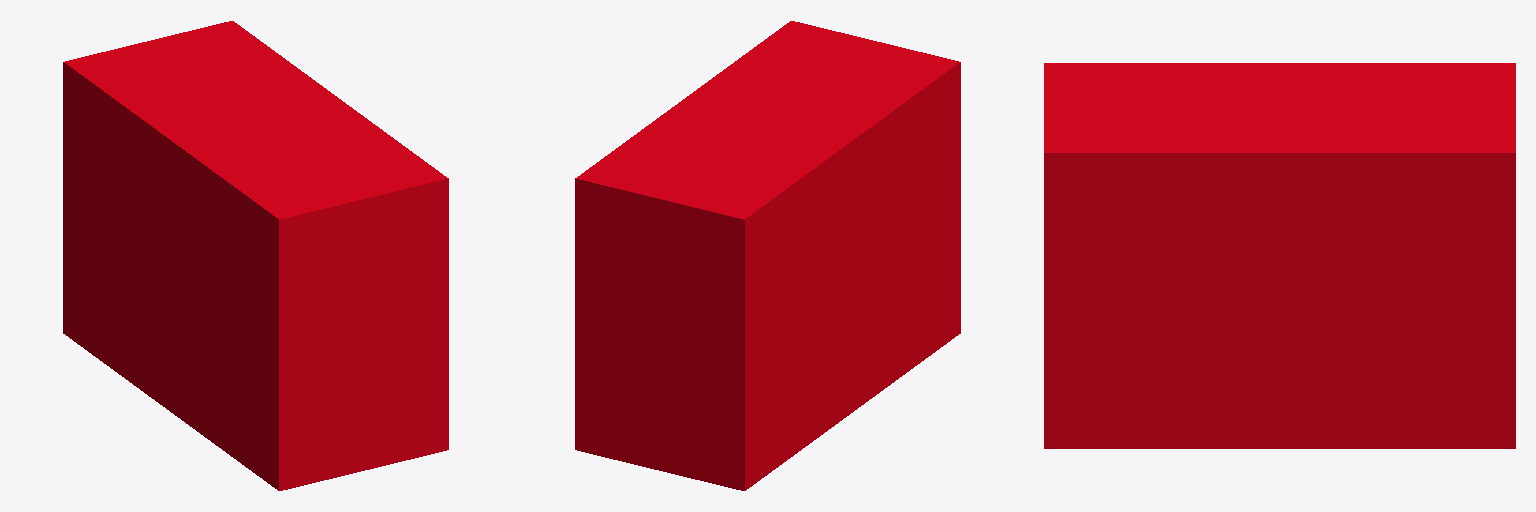
robot.urdf — random_box:
<?xml version='1.0' encoding='UTF-8'?>
<robot name="random_box">
  <link name="box">
    <visual>
      <geometry>
        <box size="0.01954997756371127 0.04318370389676151 0.03"/>
      </geometry>
      <material name="color">
        <color rgba="0.9085426836601094 0.03553682214025289 0.13185783603897738 1"/>
      </material>
    </visual>
    <collision>
      <geometry>
        <box size="0.01954997756371127 0.04318370389676151 0.03"/>
      </geometry>
    </collision>
  </link>
</robot>

--- What the picture shows (computed from the rendered views, not written in the file) ---
3 views of the same robot in one strip: view 1: azimuth 30°, elevation 25°; view 2: azimuth 150°, elevation 25°; view 3: azimuth 270°, elevation 25° (orthographic).
Robot: random_box — 1 links, 0 joints (none); root link box; default pose: every joint at zero.
Visible links, largest first — view 1: box; view 2: box; view 3: box.
Link boxes in pixels (x1=…): box: x1=63, y1=21, x2=448, y2=490; box: x1=575, y1=21, x2=960, y2=490; box: x1=1044, y1=63, x2=1515, y2=448.
Size in the robot's own frame: 0.0195 by 0.0432 by 0.03 metres.
Geometry: primitives only (box / cylinder / sphere), no mesh files.